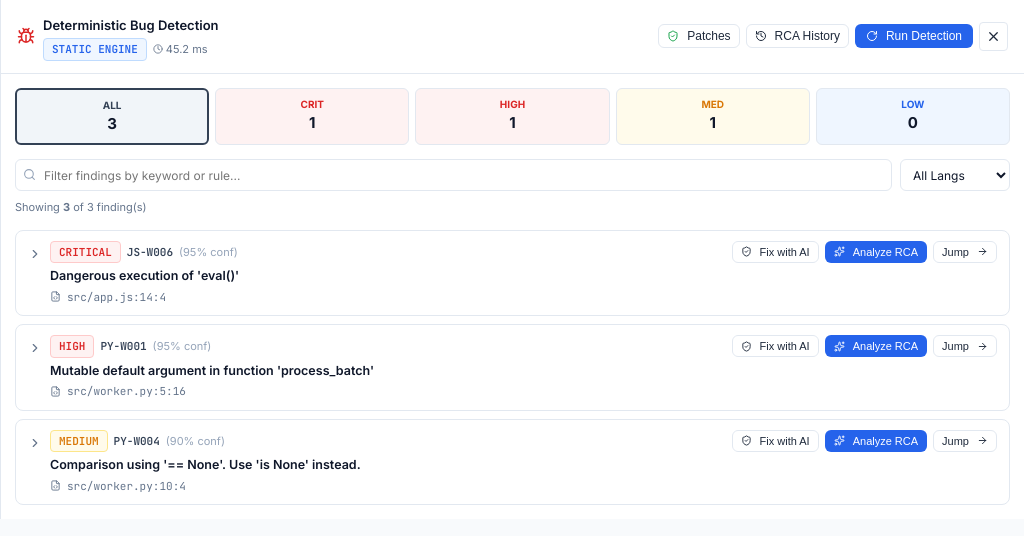
Test: DetectionPanel and Deterministic Bug Engine UI › 3. Filters findings when clicking severity chip or typing in search filter
The image size is (1024, 536).
// Filter by Critical
Click the element with test id "sev-chip-critical". click: click(312, 116)
box: [215, 88, 409, 145]
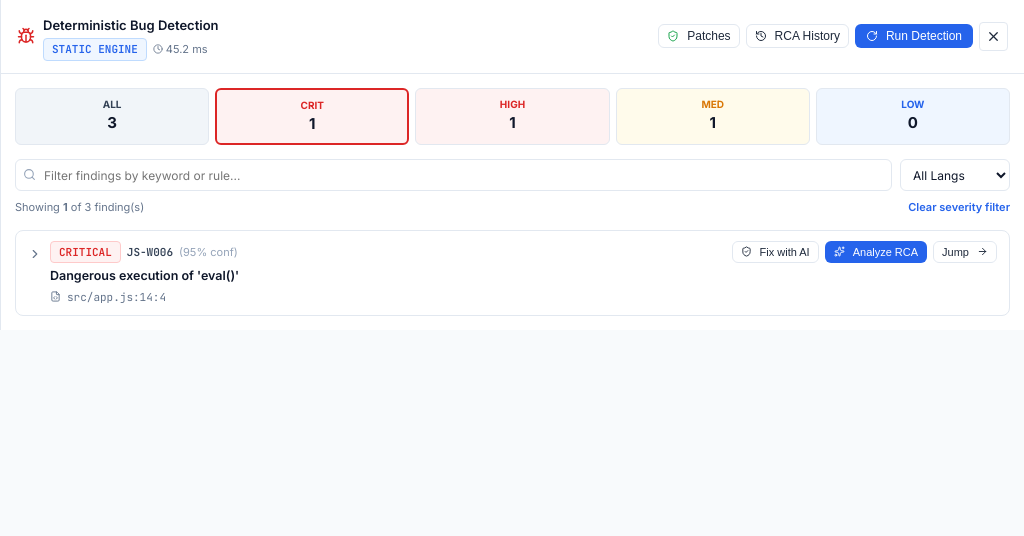
Expected: the text "JS-W006" is shown, [127, 244, 173, 260]
Now the text "PY-W001" is gone
// Reset severity filter
Click the text "Clear severity filter". click: click(959, 207)
box: [908, 199, 1010, 216]
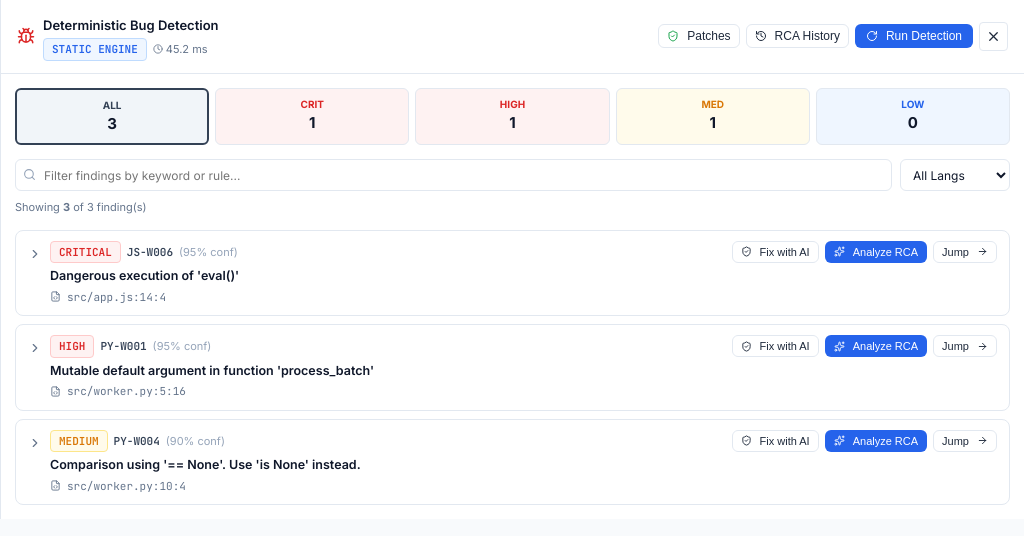
Now the text "PY-W001" is shown, box [100, 338, 147, 354]
// Search query filter
Type "dangerous-eval" into the field with placeholder "Filter findings by keyword or rule...". click: (454, 175)
box: [15, 159, 892, 191]
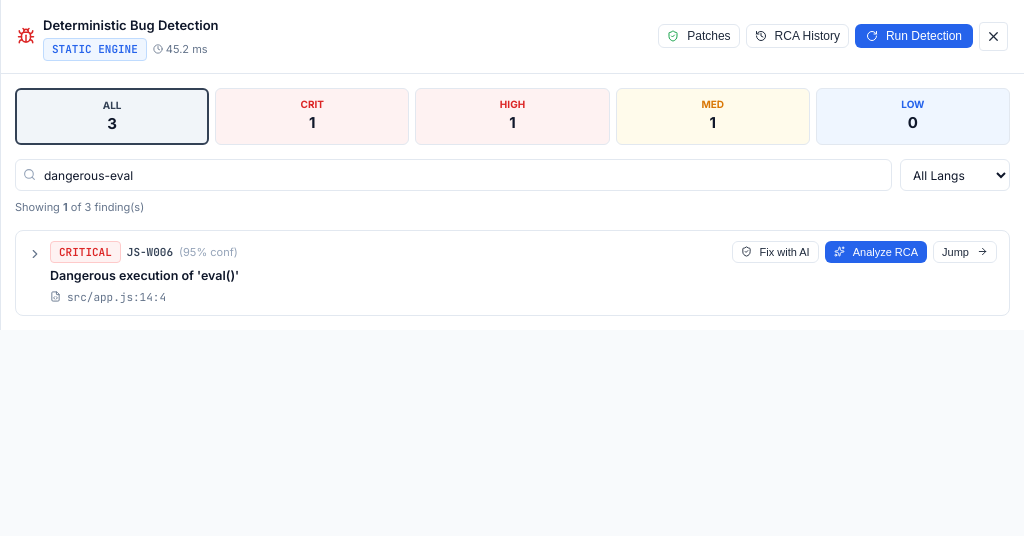
Expected: the text "JS-W006" is shown, [127, 244, 173, 260]
Now the text "PY-W001" is gone
